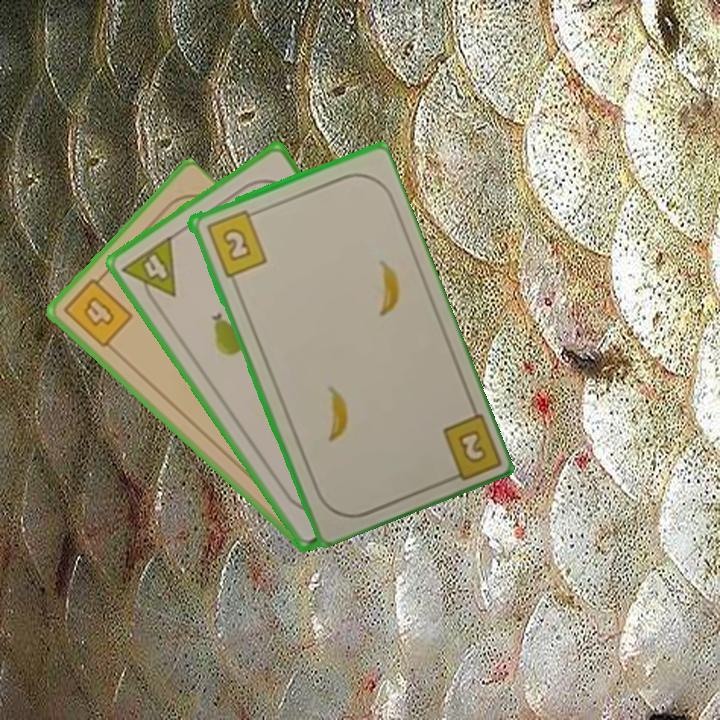2b: (202, 206, 270, 280), (438, 408, 501, 486)
4b: (59, 269, 136, 351)
4p: (118, 232, 179, 311)
